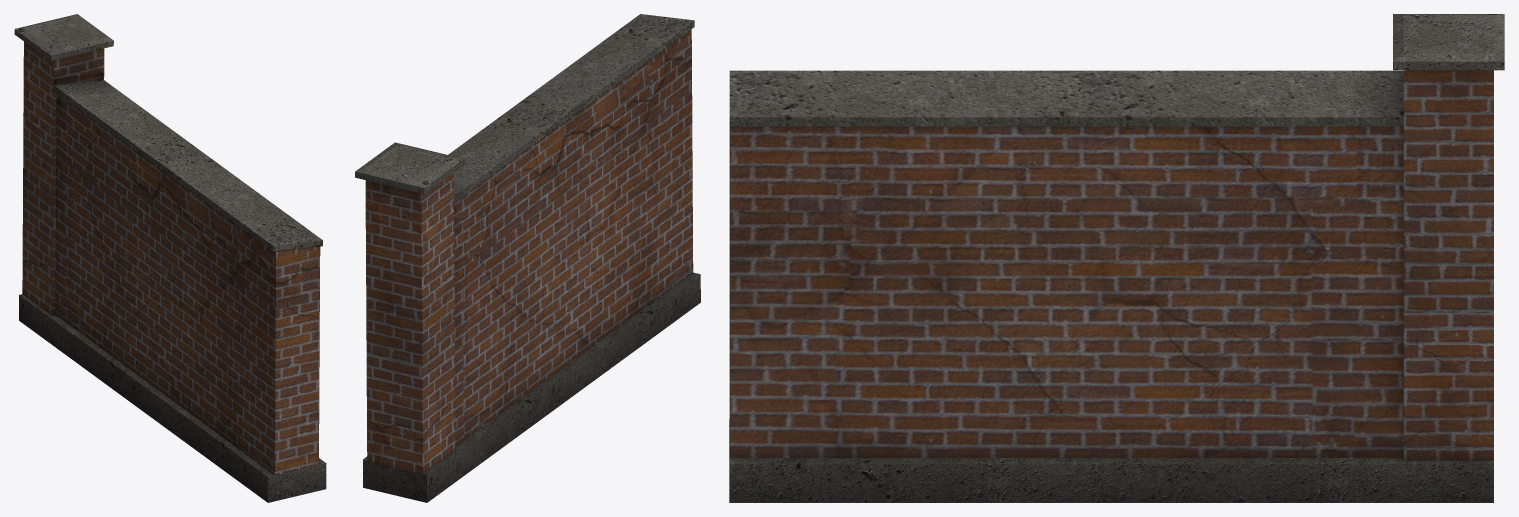
File: muro.obj
The picture shows the model from 3 angles, left to right: view 1: azimuth 30°, elevation 25°; view 2: azimuth 150°, elevation 25°; view 3: azimuth 270°, elevation 25°; orthographic projection. The views are drawn at different scales.
Visible parts, largest first — view 1: 10061_Wall_SG_V2_Iterations-2; view 2: 10061_Wall_SG_V2_Iterations-2; view 3: 10061_Wall_SG_V2_Iterations-2.
Part boxes in pixels (x1=…): 10061_Wall_SG_V2_Iterations-2: x1=14, y1=14, x2=326, y2=502; 10061_Wall_SG_V2_Iterations-2: x1=355, y1=14, x2=700, y2=502; 10061_Wall_SG_V2_Iterations-2: x1=729, y1=14, x2=1504, y2=502.
Bounding box in the file's own units: 0.5677 × 2.51 × 3.94.
